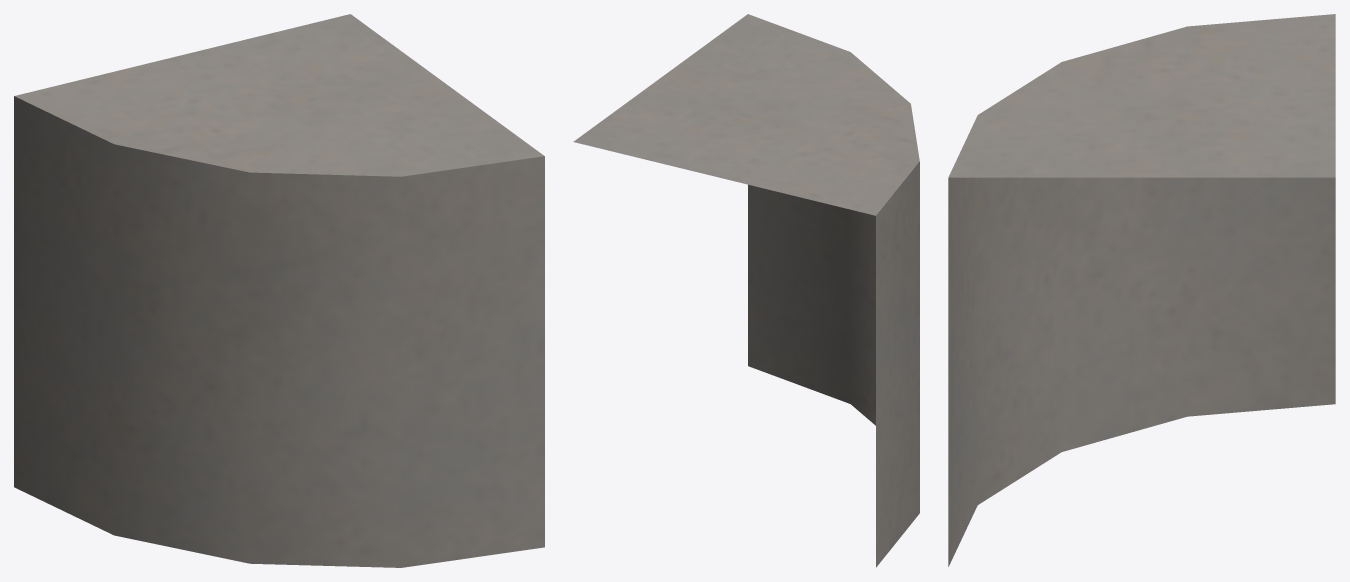
Rendered from SM06_Landscape_FlowerBed_01_End_Corner.fbx.
3 renders of one model, left to right at view 1: azimuth 30°, elevation 25°; view 2: azimuth 150°, elevation 25°; view 3: azimuth 270°, elevation 25°, orthographic. The views are drawn at different scales.
Parts seen in each view (by area): view 1: SM06_Landscape_FlowerBed_01_End_Corner; view 2: SM06_Landscape_FlowerBed_01_End_Corner; view 3: SM06_Landscape_FlowerBed_01_End_Corner.
Part boxes in pixels (x1,y1,x2,y2): SM06_Landscape_FlowerBed_01_End_Corner: (14, 14, 544, 567); SM06_Landscape_FlowerBed_01_End_Corner: (573, 14, 919, 567); SM06_Landscape_FlowerBed_01_End_Corner: (948, 14, 1335, 566).
Size of the model in its own units: 0.18 by 0.2 by 0.18.
